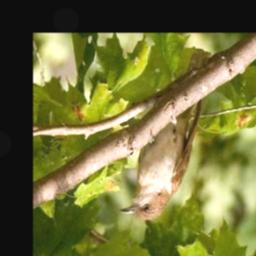Cuckoo: (118, 46, 211, 225)
